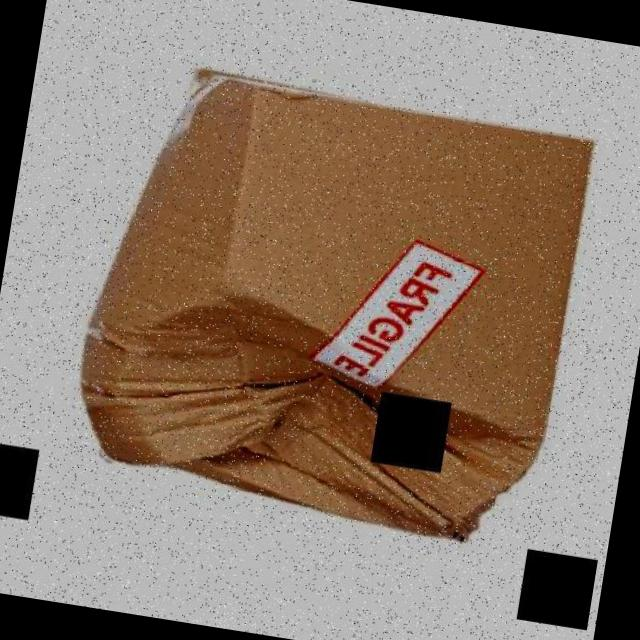box: (59, 56, 604, 564)
